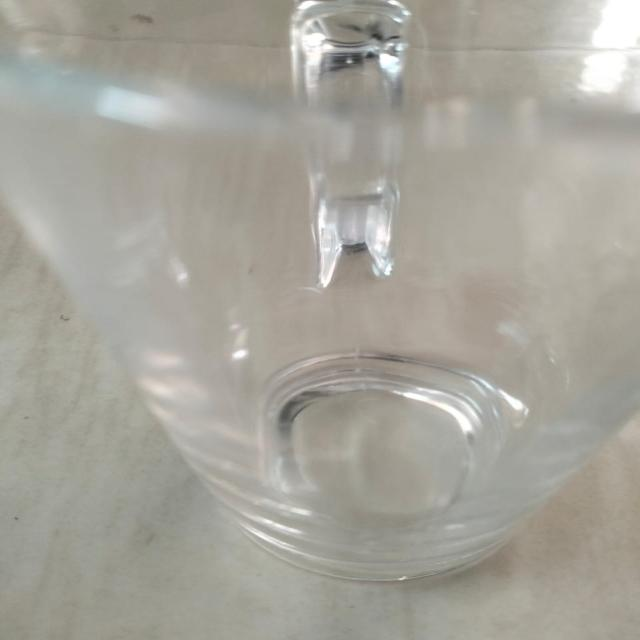glass-VX4N: (0, 4, 640, 580)
